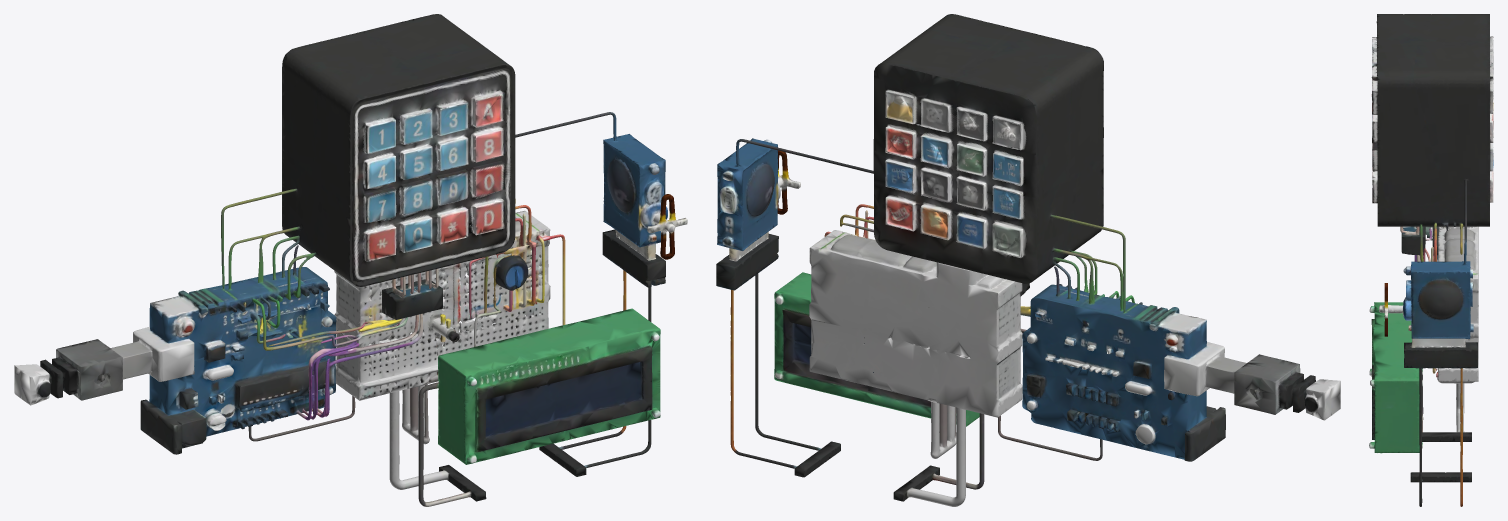
File: electronics-project.glb
The picture shows the model from 3 angles, left to right: view 1: azimuth 30°, elevation 25°; view 2: azimuth 150°, elevation 25°; view 3: azimuth 270°, elevation 25°; orthographic projection. The views are drawn at different scales.
Parts seen in each view (by area): view 1: tripo_node_63671f10-e342-4df7-9923-fdea097a4bac; view 2: tripo_node_63671f10-e342-4df7-9923-fdea097a4bac; view 3: tripo_node_63671f10-e342-4df7-9923-fdea097a4bac.
Part boxes in pixels (bbox=[...]): tripo_node_63671f10-e342-4df7-9923-fdea097a4bac: bbox=[14, 14, 687, 506]; tripo_node_63671f10-e342-4df7-9923-fdea097a4bac: bbox=[716, 14, 1340, 506]; tripo_node_63671f10-e342-4df7-9923-fdea097a4bac: bbox=[1369, 14, 1493, 506].
Bounding box in the file's own units: 1 × 0.693 × 0.2118.
1 material, 1 textured.
